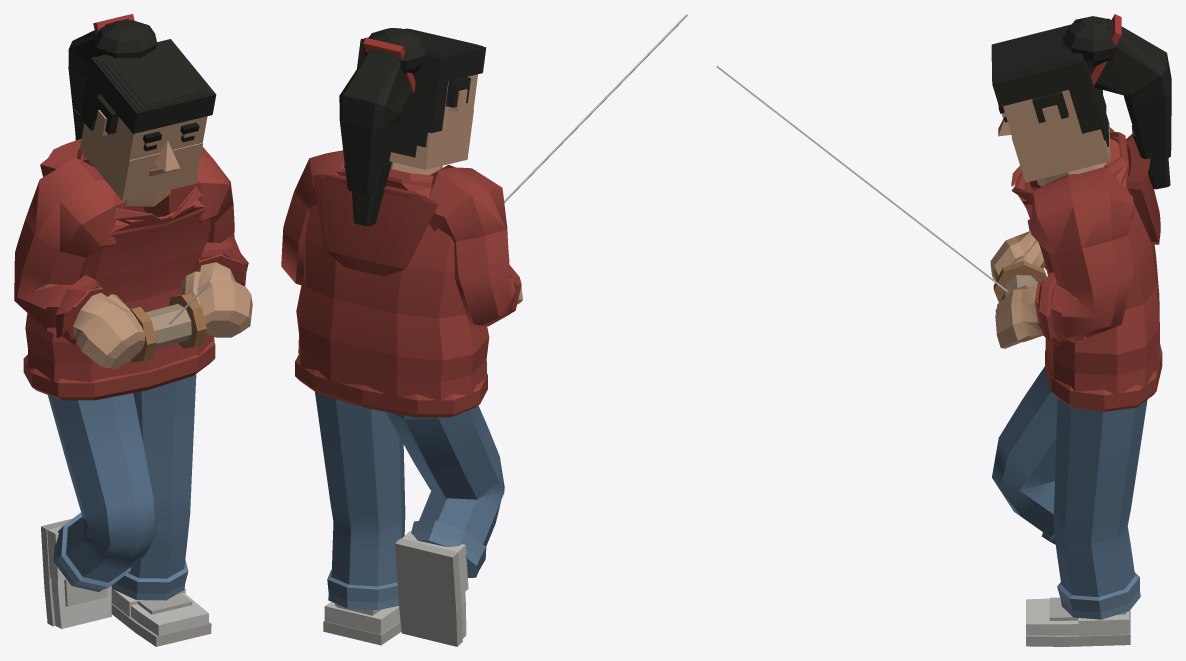
The model's file is kite-kid-0a7d70__walk2.glb.
The picture shows the model from 3 angles, left to right: view 1: azimuth 30°, elevation 25°; view 2: azimuth 150°, elevation 25°; view 3: azimuth 270°, elevation 25°; orthographic projection.
Visible parts, largest first — view 1: kite-kid-0a7d70__walk2; view 2: kite-kid-0a7d70__walk2; view 3: kite-kid-0a7d70__walk2.
Boxes of the visible parts, left/top/right/bottom form: kite-kid-0a7d70__walk2: left=14, top=14, right=252, bottom=646; kite-kid-0a7d70__walk2: left=281, top=14, right=687, bottom=646; kite-kid-0a7d70__walk2: left=716, top=14, right=1171, bottom=646.
Bounding box in the file's own units: 0.4704 × 1.21 × 0.8322.
